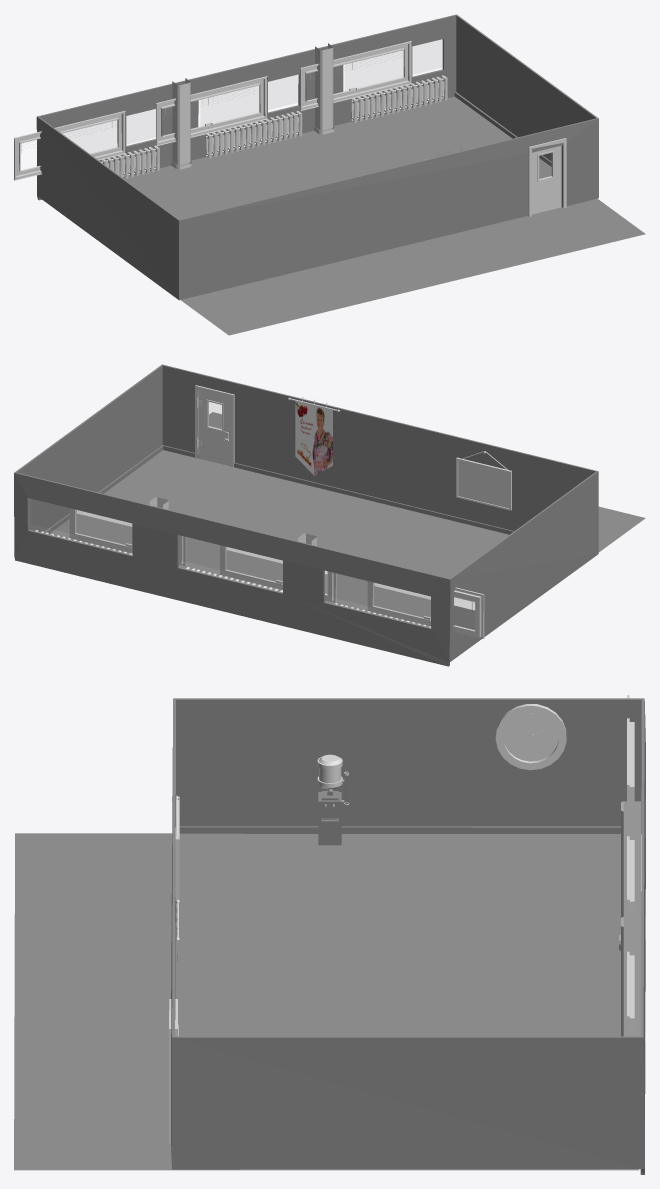
The model's file is room thing.FBX.
3 views of the same model, one above another, from view 1: azimuth 30°, elevation 25°; view 2: azimuth 150°, elevation 25°; view 3: azimuth 270°, elevation 25° (orthographic). The views are drawn at different scales.
Parts seen in each view (by area): view 1: Object047, Plane010, Cylinder031, Cylinder032, Box072, Box064, Box073, Box025, Box067, Box034, Cylinder033, Rectangle005; view 2: Object047, Plane010, Plane014, Box068, Object063, Box073, Box034, Box064, Box072, Rectangle005; view 3: Plane010, Object047, Cylinder019, Object063, Box025, Box067, Box036, Cylinder020.
Part boxes in pixels (box(x1,y1,x2,y2)): Object047: box(36, 14, 598, 300); Plane010: box(123, 96, 645, 335); Cylinder031: box(351, 75, 447, 122); Cylinder032: box(205, 111, 302, 158); Box072: box(300, 41, 412, 110); Box064: box(155, 76, 267, 145); Box073: box(14, 111, 126, 180); Box025: box(314, 43, 334, 134); Box067: box(171, 78, 191, 169); Box034: box(532, 145, 561, 214); Cylinder033: box(100, 145, 159, 178); Rectangle005: box(528, 138, 566, 216); Object047: box(14, 364, 598, 666); Plane010: box(49, 412, 645, 626); Plane014: box(295, 401, 332, 475); Box068: box(456, 457, 511, 510); Object063: box(44, 445, 514, 534); Box073: box(367, 581, 484, 638); Box034: box(198, 390, 230, 466); Box064: box(220, 545, 336, 602); Box072: box(69, 508, 186, 566); Rectangle005: box(195, 385, 234, 467); Plane010: box(14, 833, 639, 1170); Object047: box(171, 698, 645, 1174); Cylinder019: box(495, 704, 566, 770); Object063: box(175, 826, 641, 998); Box025: box(621, 916, 640, 1036); Box067: box(619, 801, 640, 950); Box036: box(318, 789, 341, 845); Cylinder020: box(317, 754, 344, 802).
Bounding box in the file's own units: 1630 × 303 × 1205.
